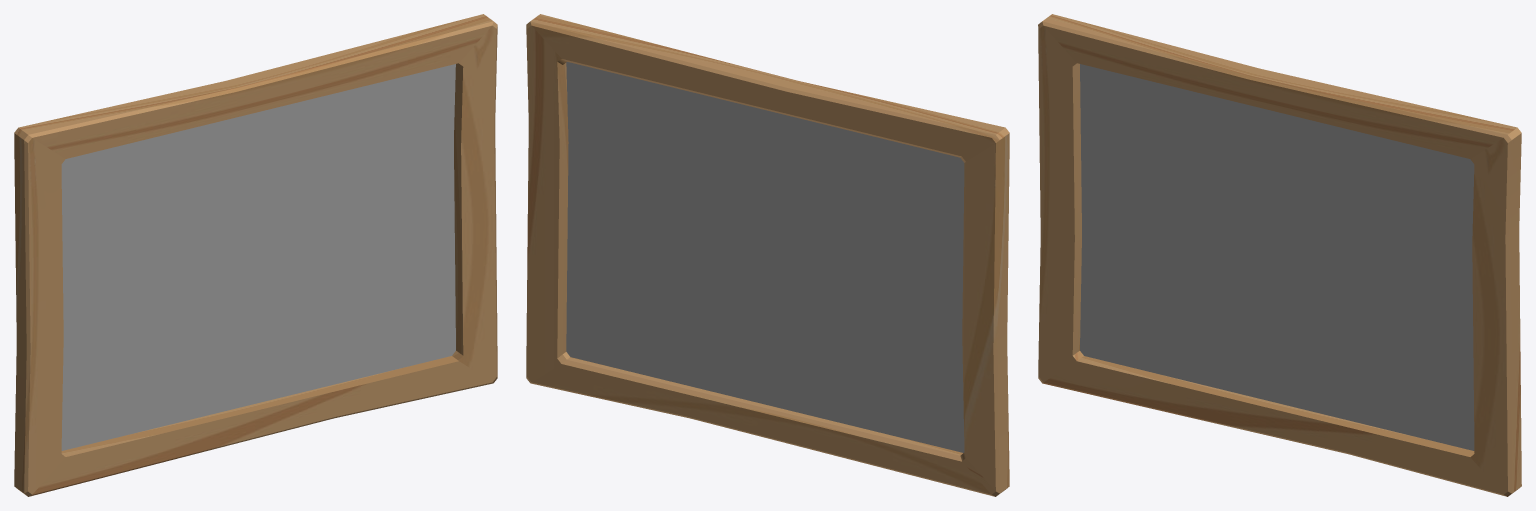
The model's file is pizarra.fbx.
3 views of the same model, side by side, from view 1: azimuth 30°, elevation 25°; view 2: azimuth 150°, elevation 25°; view 3: azimuth 330°, elevation 25° (orthographic).
Parts seen in each view (by area): view 1: polySurface14, polySurface13; view 2: polySurface14, polySurface13; view 3: polySurface14, polySurface13.
Part boxes in pixels (x1=…): polySurface14: x1=61, y1=64, x2=455, y2=450; polySurface13: x1=14, y1=14, x2=497, y2=496; polySurface14: x1=566, y1=62, x2=964, y2=452; polySurface13: x1=526, y1=14, x2=1009, y2=496; polySurface14: x1=1080, y1=64, x2=1474, y2=450; polySurface13: x1=1038, y1=14, x2=1521, y2=496.
Bounding box in the file's own units: 5.45 × 3.98 × 0.255.
